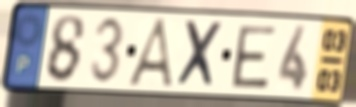3: (88, 14, 127, 87)
4: (275, 23, 310, 95)
8: (46, 13, 88, 85)
A: (125, 16, 178, 92)
E: (230, 24, 279, 91)
X: (174, 18, 225, 91)
